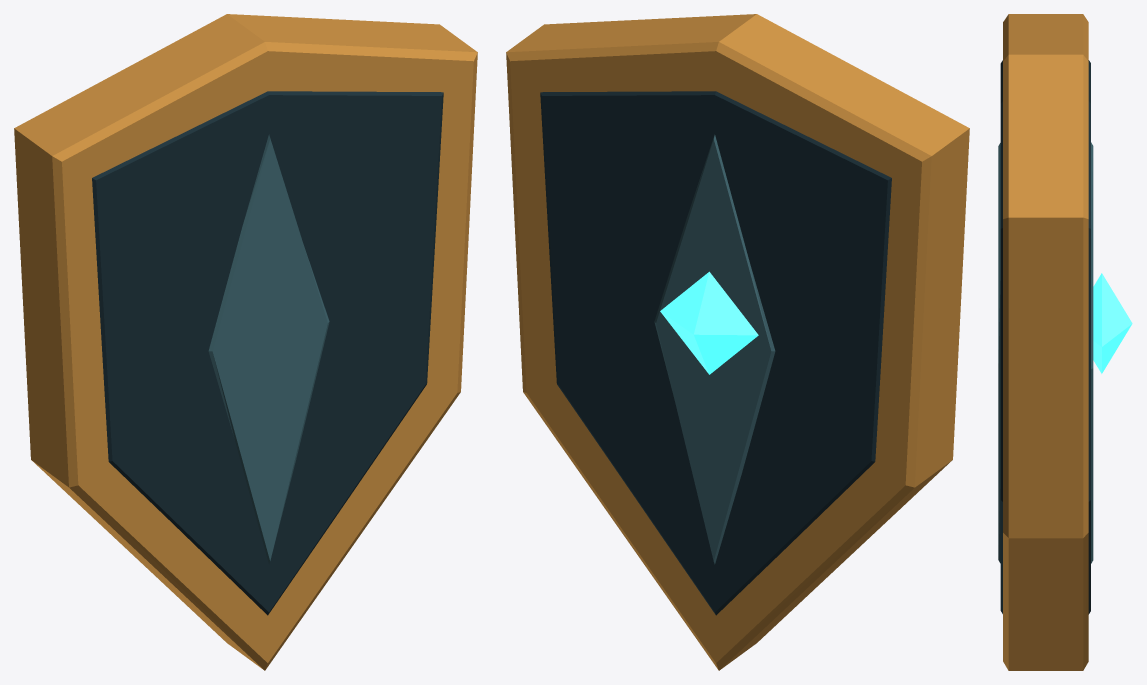
Rendered from shield.glb.
The picture shows the model from 3 angles, left to right: view 1: azimuth 30°, elevation 25°; view 2: azimuth 150°, elevation 25°; view 3: azimuth 270°, elevation 25°; orthographic projection. The views are drawn at different scales.
Parts seen in each view (by area): view 1: shield; view 2: shield; view 3: shield.
Boxes of the visible parts, x1,y1,x2,y2 form: shield: [14, 14, 477, 670]; shield: [506, 14, 969, 670]; shield: [998, 14, 1132, 670].
Size of the model in its own units: 0.5167 by 0.7296 by 0.144.
